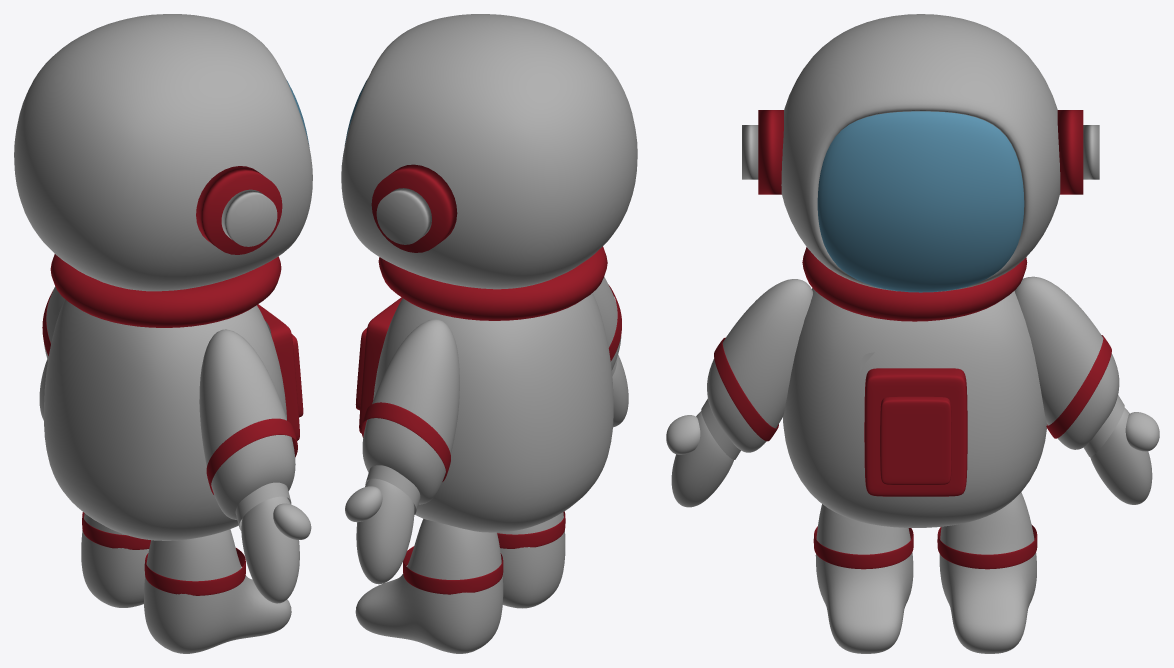
Rendered from astronaut.fbx.
The picture shows the model from 3 angles, left to right: view 1: azimuth 30°, elevation 25°; view 2: azimuth 150°, elevation 25°; view 3: azimuth 270°, elevation 25°; orthographic projection.
Visible parts, largest first — view 1: Cube.009, Cube.002, Cube.004, Cube.008, Torus, Cylinder.004, Cube.005, Cube.007; view 2: Cube.009, Cube.002, Cube.007, Cube.005, Torus, Cylinder.004, Cube.008, Cube.004; view 3: Cube.009, Cube.002, Cube.004, Cube.007, Cube.005, Cube.008, Torus, Cylinder.004.
Boxes of the visible parts, x1,y1,x2,y2 form: Cube.009: (14, 14, 312, 291); Cube.002: (44, 299, 303, 540); Cube.004: (199, 329, 311, 603); Cube.008: (144, 529, 291, 653); Torus: (50, 254, 281, 327); Cylinder.004: (196, 166, 282, 254); Cube.005: (81, 512, 150, 607); Cube.007: (39, 286, 64, 420); Cube.009: (341, 14, 637, 289); Cube.002: (355, 293, 613, 532); Cube.007: (345, 319, 459, 584); Cube.005: (355, 518, 503, 653); Torus: (378, 246, 607, 320); Cylinder.004: (371, 164, 457, 252); Cube.008: (497, 511, 565, 608); Cube.004: (593, 277, 628, 427); Cube.009: (781, 14, 1060, 292); Cube.002: (783, 288, 1047, 527); Cube.004: (666, 279, 812, 507); Cube.007: (1014, 276, 1159, 504); Cube.005: (937, 492, 1037, 653); Cube.008: (813, 504, 913, 653); Torus: (802, 247, 1027, 321); Cylinder.004: (742, 110, 1099, 194).
Bounding box in the file's own units: 145 × 331 × 252.
